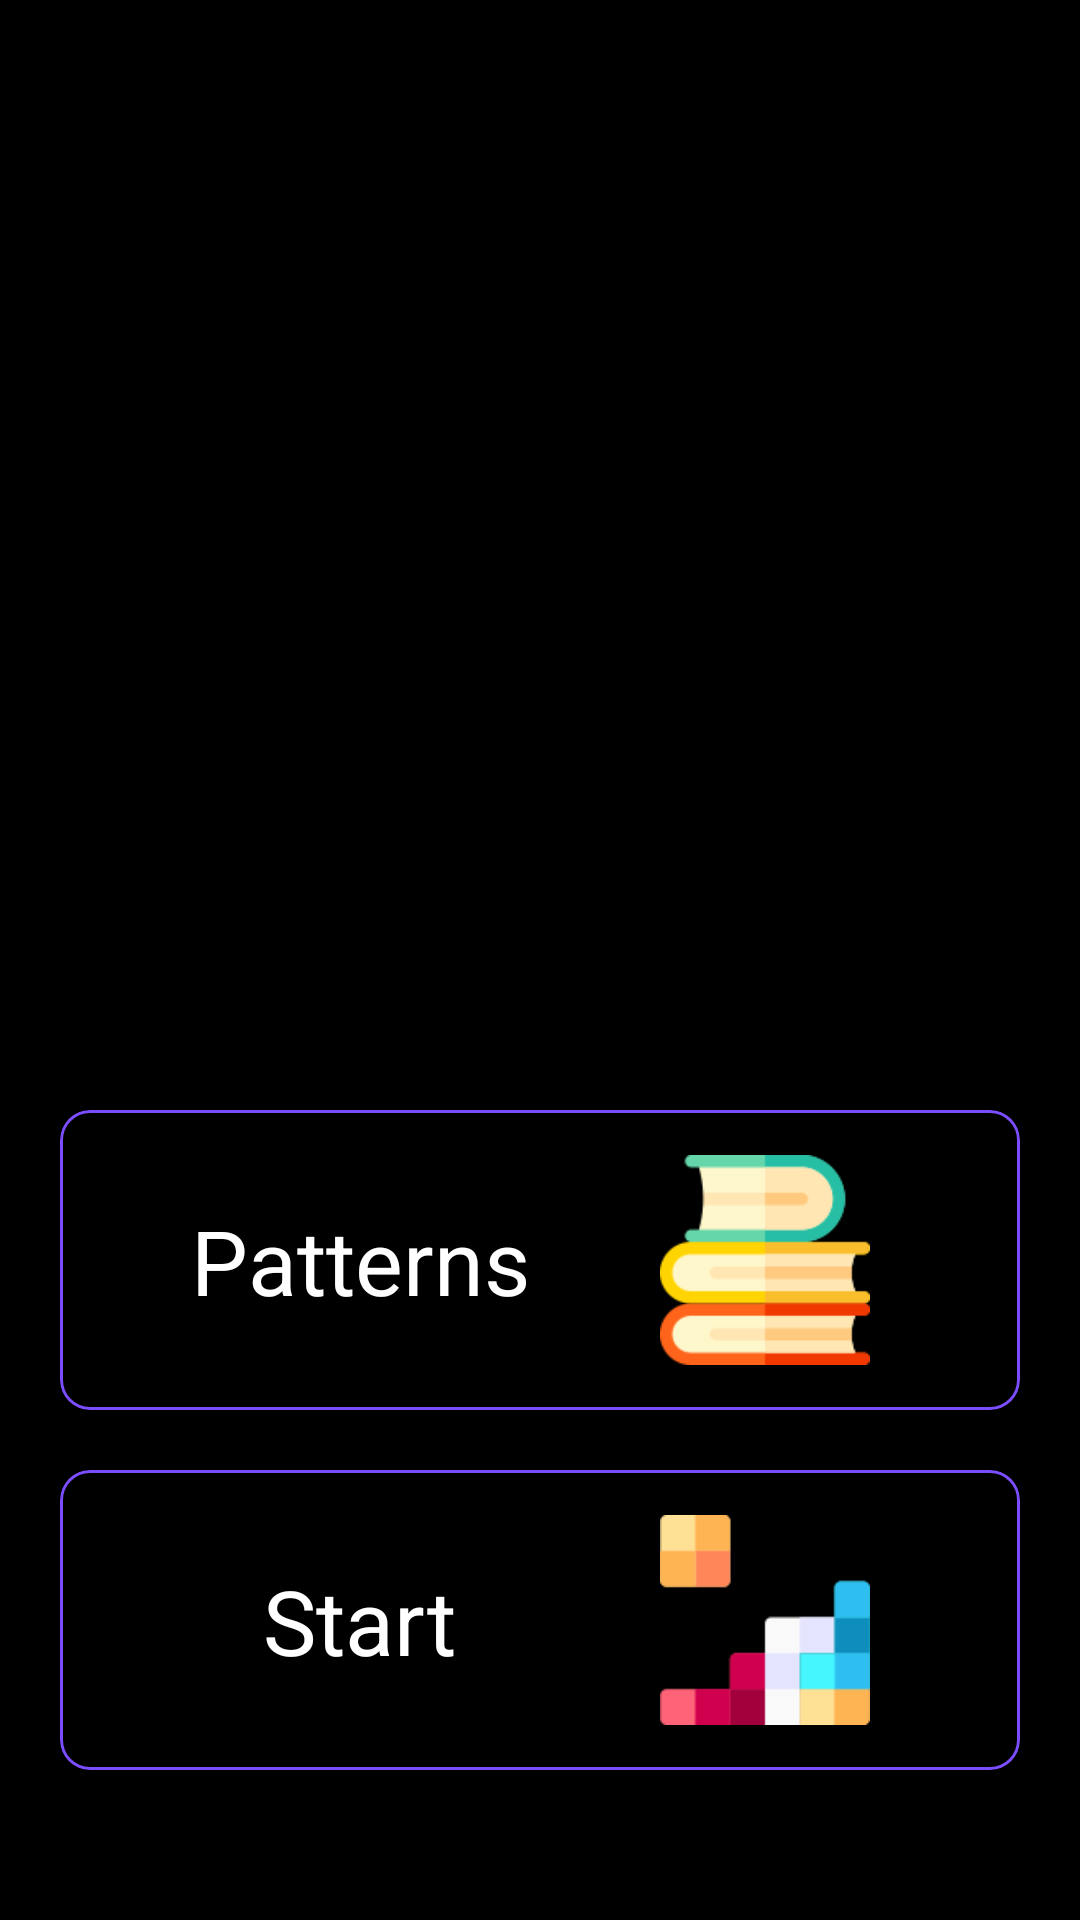

Named icons in this screenshot (1080px×1920px) and their bounding boxes, (x1, y1, x2, y2):
game: (660, 1515, 870, 1725)
